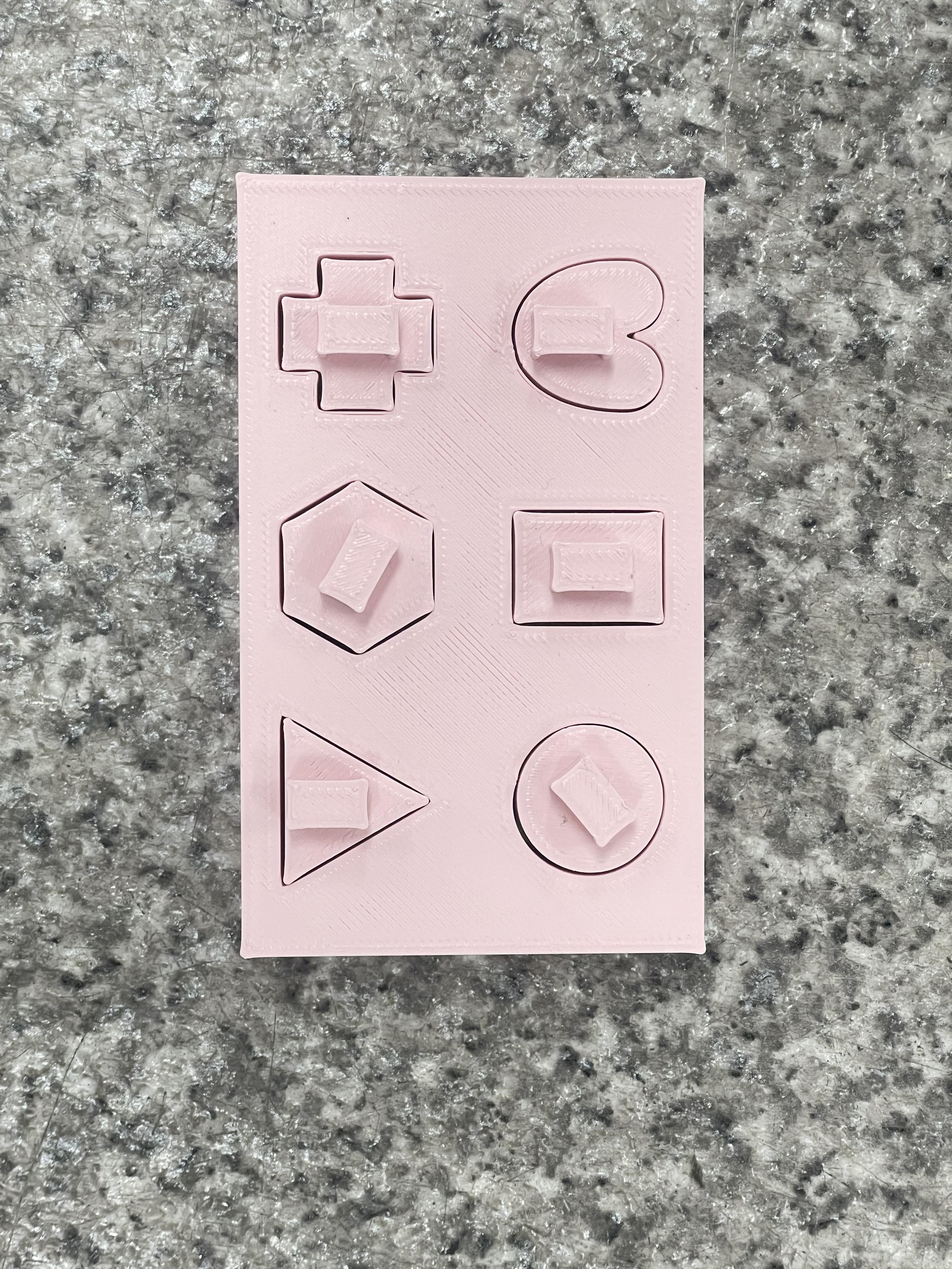solved: (220, 158, 745, 983)
